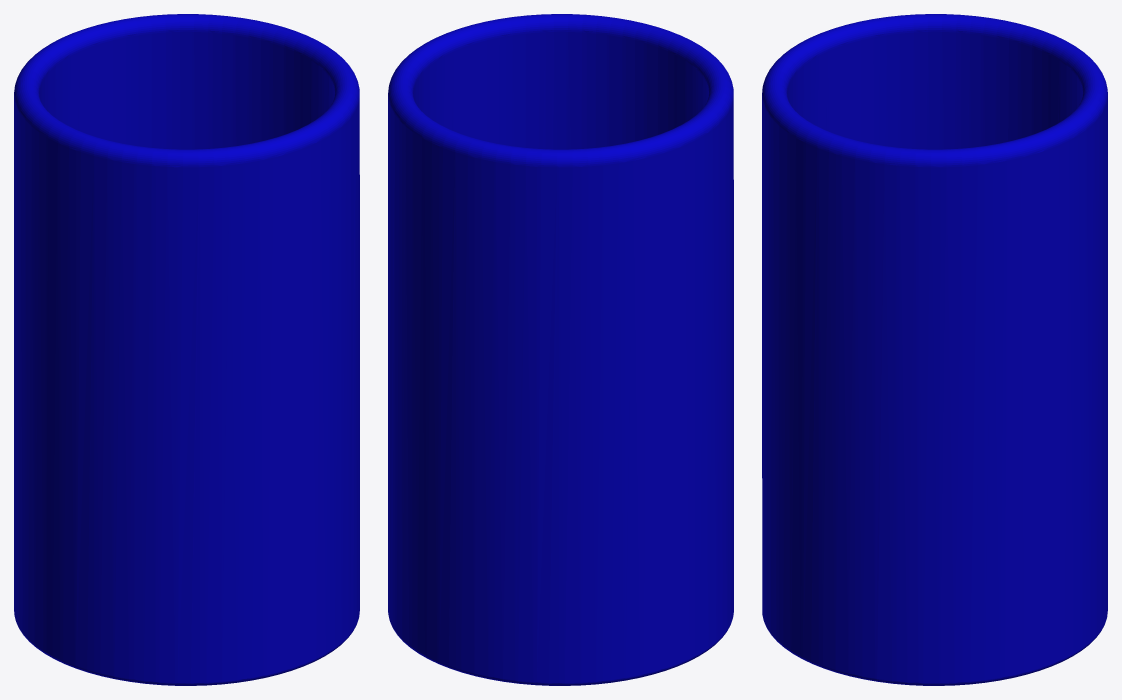
The model's file is cup_blue.dae.
3 views of the same model, side by side, from view 1: azimuth 30°, elevation 25°; view 2: azimuth 150°, elevation 25°; view 3: azimuth 270°, elevation 25° (orthographic).
Parts seen in each view (by area): view 1: Part4FBXASC058Mesh; view 2: Part4FBXASC058Mesh; view 3: Part4FBXASC058Mesh.
Boxes of the visible parts, x1,y1,x2,y2 form: Part4FBXASC058Mesh: [14, 14, 359, 685]; Part4FBXASC058Mesh: [388, 14, 733, 685]; Part4FBXASC058Mesh: [762, 14, 1107, 685].
Size of the model in its own units: 7.06 by 11.98 by 7.06.
